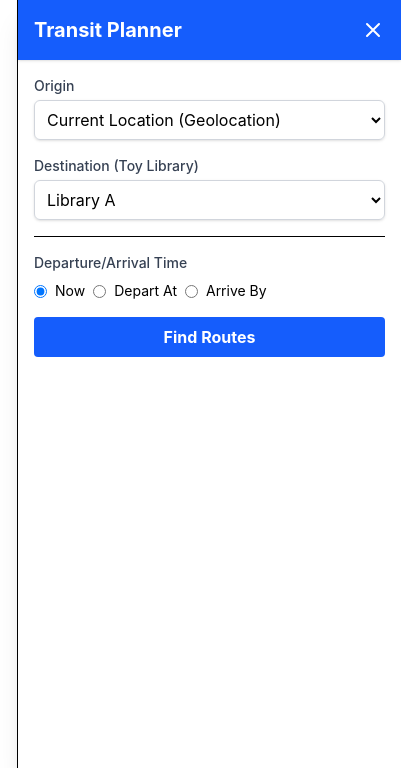
Scenario: TransitPlanner.vue › displays mock routing results when Find Routes is clicked
Click the button "Find Routes": (210, 337) [34, 317, 385, 357]
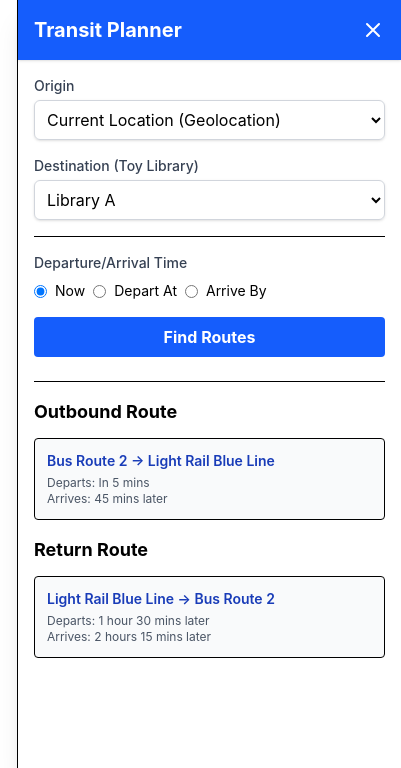
expect the text "Outbound Route" is shown: met, box [34, 401, 177, 422]
expect the text "Return Route" is shown: met, box [34, 539, 148, 560]
